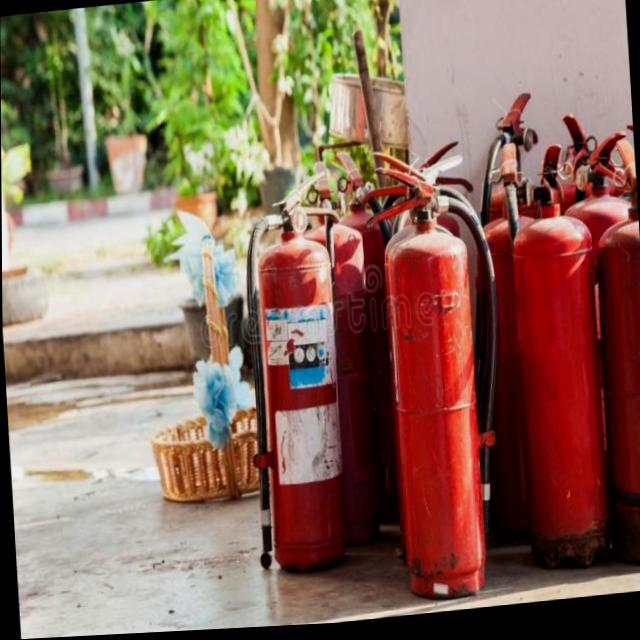FireExtinguisher: (364, 149, 520, 612), (495, 142, 620, 580), (234, 164, 359, 591), (270, 141, 390, 563), (583, 136, 640, 582)
